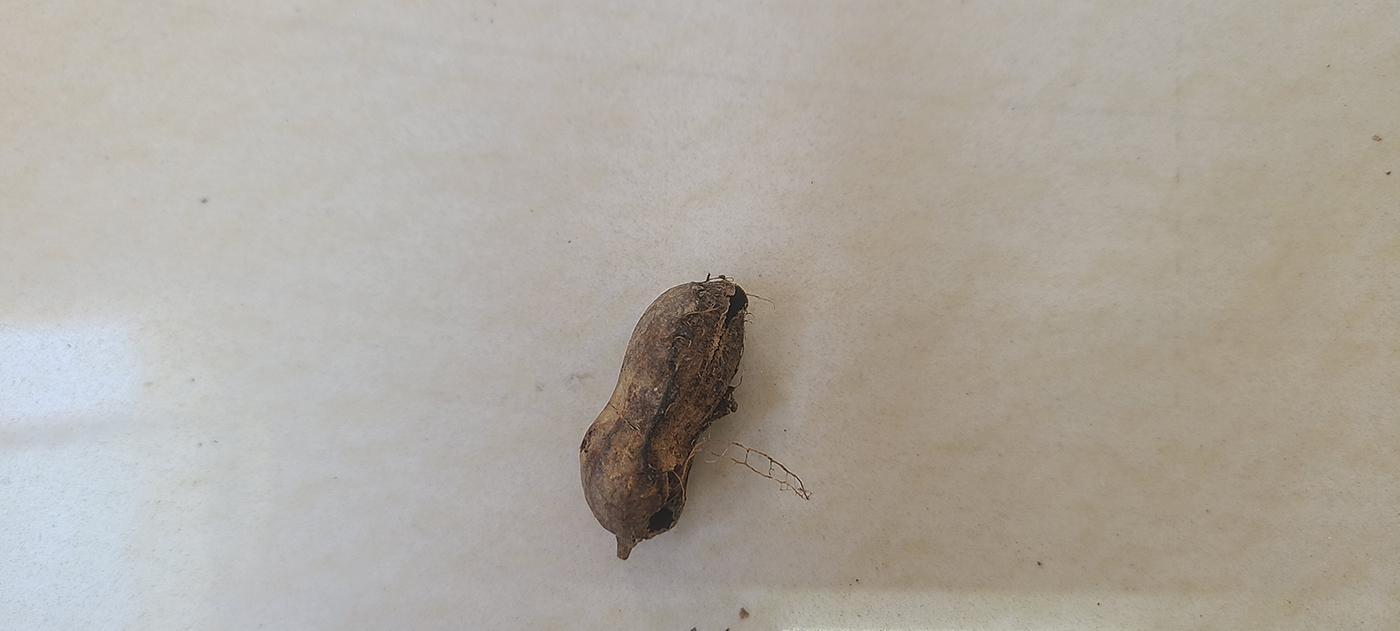l: (578, 277, 751, 549)
